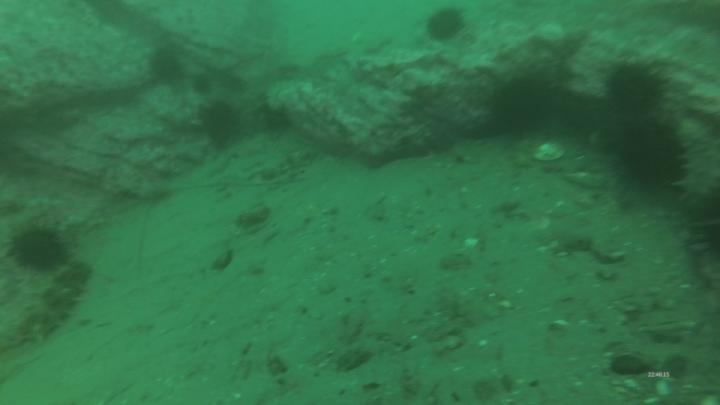echinus: (613, 121, 690, 196), (595, 60, 674, 122), (490, 74, 556, 138), (7, 224, 73, 275), (690, 182, 720, 269), (424, 6, 469, 46), (202, 99, 238, 144), (147, 44, 184, 82), (190, 73, 213, 96)
holothurian: (6, 260, 94, 346)
